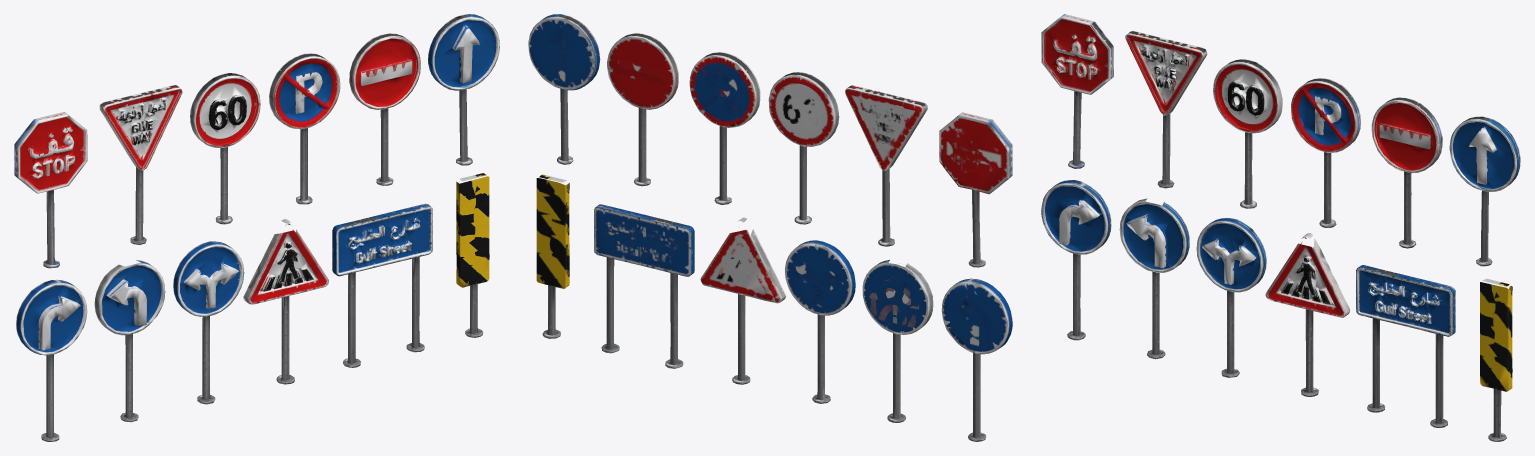
Rendered from kw_signs.glb.
3 views of the same model, side by side, from view 1: azimuth 30°, elevation 25°; view 2: azimuth 150°, elevation 25°; view 3: azimuth 330°, elevation 25° (orthographic).
Visible parts, largest first — view 1: frame, row_top; view 2: frame, row_top; view 3: frame, row_top.
Part boxes in pixels (box(x1,y1,x2,y2)): frame: box(16, 176, 489, 441); row_top: box(14, 14, 499, 268); frame: box(536, 178, 1012, 441); row_top: box(528, 14, 1012, 267); frame: box(1041, 180, 1512, 441); row_top: box(1041, 14, 1520, 286).
Size of the model in its own units: 8.2 by 5.23 by 0.3142.
1 material, 1 textured.
